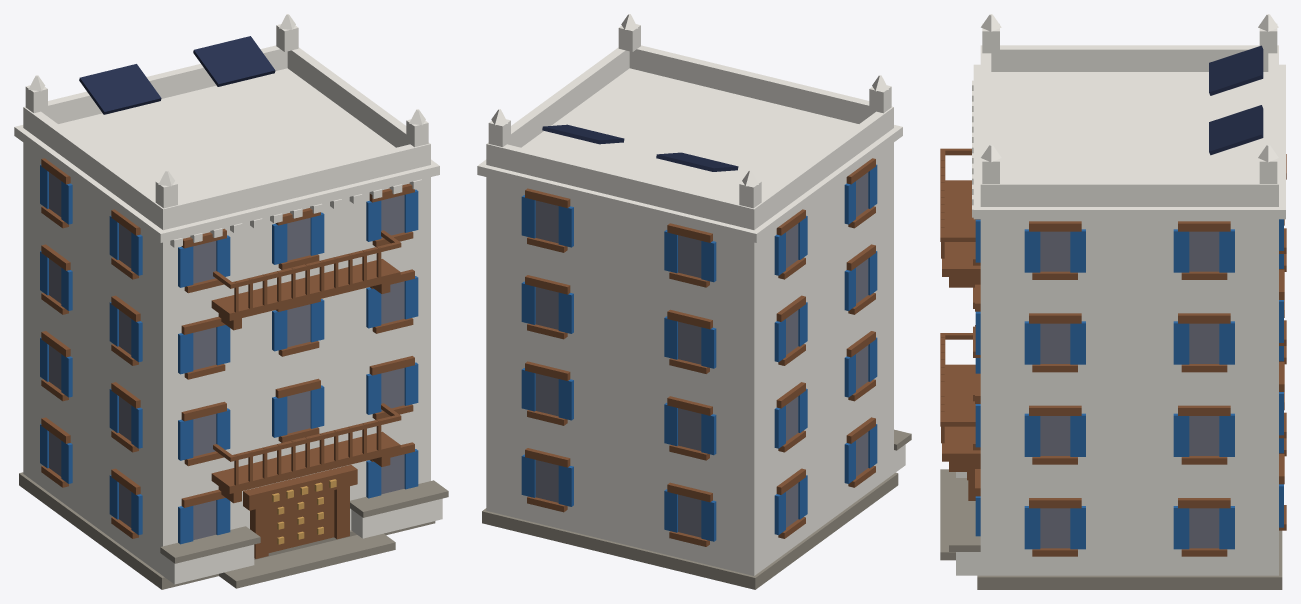
Rendered from house-1x1-4f-swahili-a-solar.glb.
3 views of the same model, side by side, from view 1: azimuth 30°, elevation 25°; view 2: azimuth 150°, elevation 25°; view 3: azimuth 270°, elevation 25° (orthographic). The views are drawn at different scales.
Visible parts, largest first — view 1: house-1x1-4f-swahili-a-solar; view 2: house-1x1-4f-swahili-a-solar; view 3: house-1x1-4f-swahili-a-solar.
Boxes of the visible parts, <box> form: house-1x1-4f-swahili-a-solar: <box>14,14,448,589</box>; house-1x1-4f-swahili-a-solar: <box>477,14,911,589</box>; house-1x1-4f-swahili-a-solar: <box>940,14,1286,589</box>.
Size of the model in its own units: 0.984 by 1.38 by 0.987.
Materials: 1 (1 with a texture image).
